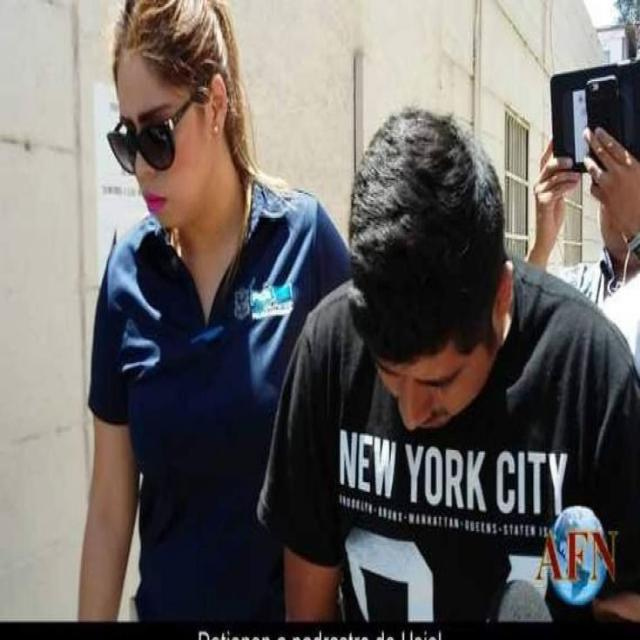9_cabeza_baja: (348, 106, 516, 432)
